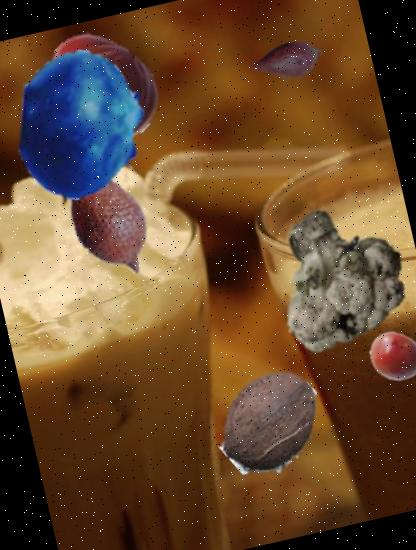Cauliflower: (250, 190, 416, 358)
Cocos: (204, 356, 336, 489)
Huckleberry: (0, 34, 172, 214)
Potato: (363, 323, 416, 388)
Salak: (31, 145, 181, 295), (246, 19, 331, 104)
Tomato: (32, 13, 176, 158)
